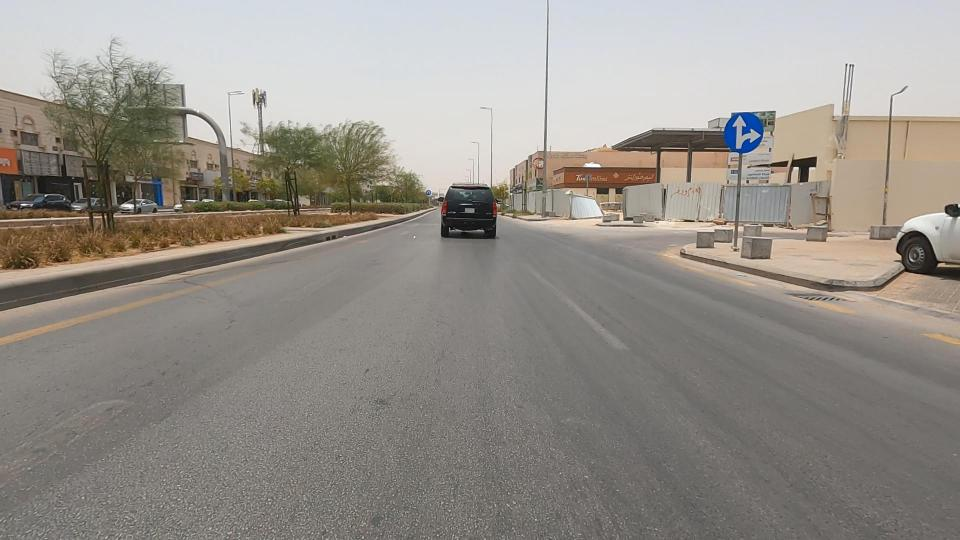BAD_BILLBOARD: (0, 117, 87, 211), (39, 129, 132, 206)
